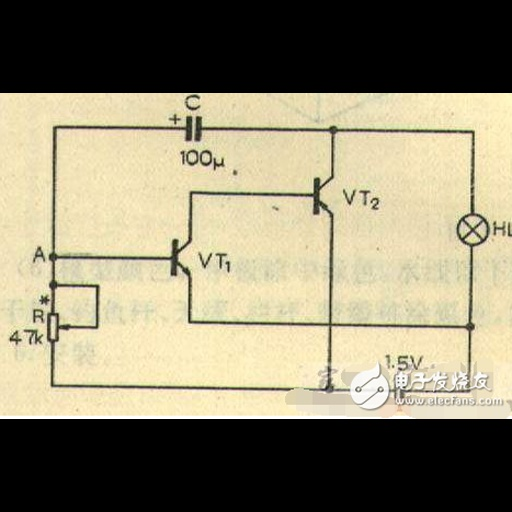firstpolarcapacitor: (164, 113, 212, 145)
light: (454, 211, 490, 247)
npn: (155, 231, 198, 283)
pnp: (298, 166, 339, 221)
